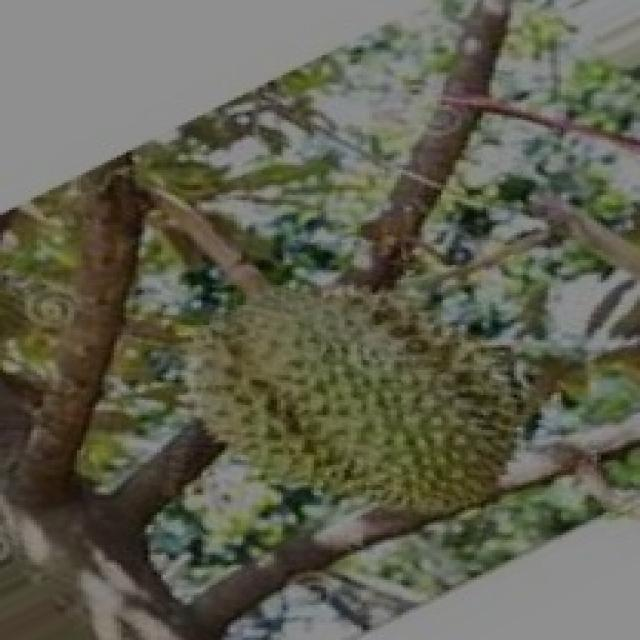fruit: (148, 245, 560, 565)
